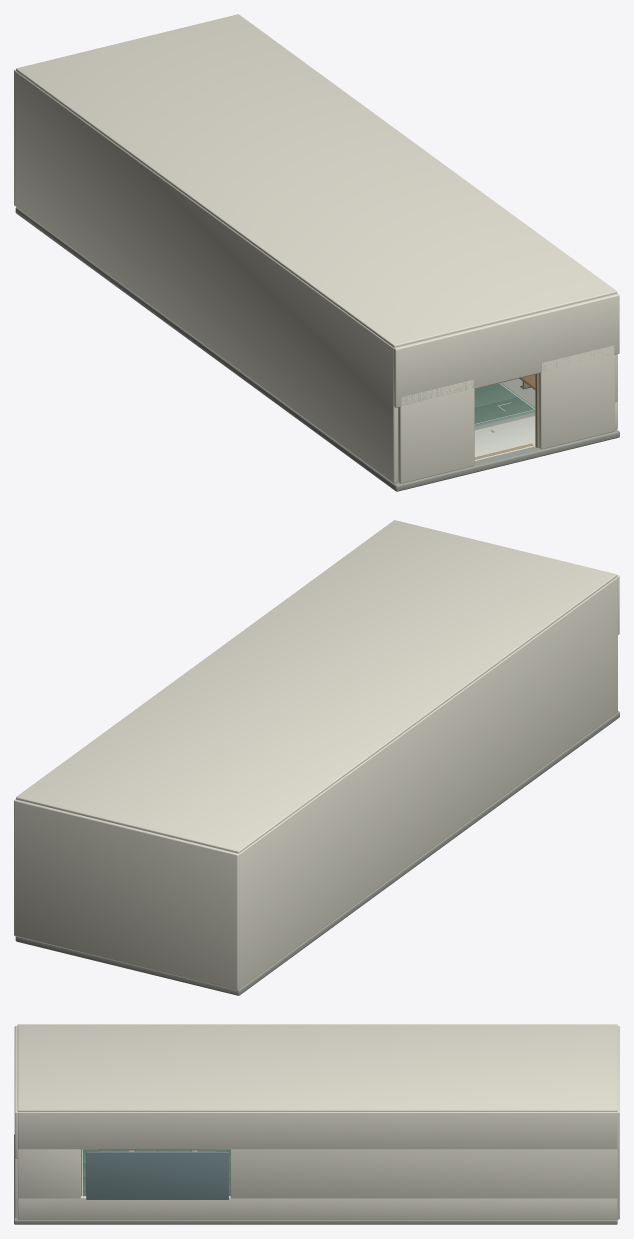
Rendered from training_day.glb.
3 renders of one model, top to bottom at view 1: azimuth 30°, elevation 25°; view 2: azimuth 150°, elevation 25°; view 3: azimuth 270°, elevation 25°, orthographic. The views are drawn at different scales.
Parts seen in each view (by area): view 1: TrainingHall.Warm plaster, TrainingHall.Terrazzo mineral floor, TrainingHall.Light stone, TrainingHall.Padded sage mat, TrainingHall.Padded sage alternate; view 2: TrainingHall.Warm plaster, TrainingHall.Terrazzo mineral floor; view 3: TrainingHall.Warm plaster, TrainingHall.Observation shadow, TrainingHall.Terrazzo mineral floor, TrainingHall.Padded sage mat.
Part boxes in pixels (left/top/right/bottom): TrainingHall.Warm plaster: left=14, top=14, right=619, bottom=483; TrainingHall.Terrazzo mineral floor: left=15, top=207, right=619, bottom=491; TrainingHall.Light stone: left=474, top=416, right=535, bottom=460; TrainingHall.Padded sage mat: left=474, top=383, right=517, bottom=424; TrainingHall.Padded sage alternate: left=474, top=397, right=534, bottom=418; TrainingHall.Warm plaster: left=14, top=520, right=619, bottom=990; TrainingHall.Terrazzo mineral floor: left=15, top=711, right=619, bottom=995; TrainingHall.Warm plaster: left=14, top=1024, right=619, bottom=1219; TrainingHall.Observation shadow: left=86, top=1152, right=228, bottom=1199; TrainingHall.Terrazzo mineral floor: left=14, top=1134, right=617, bottom=1224; TrainingHall.Padded sage mat: left=81, top=1149, right=230, bottom=1195.
Size of the model in its own units: 10.98 by 6.61 by 31.62.
Materials: 17 (4 with a texture image).
